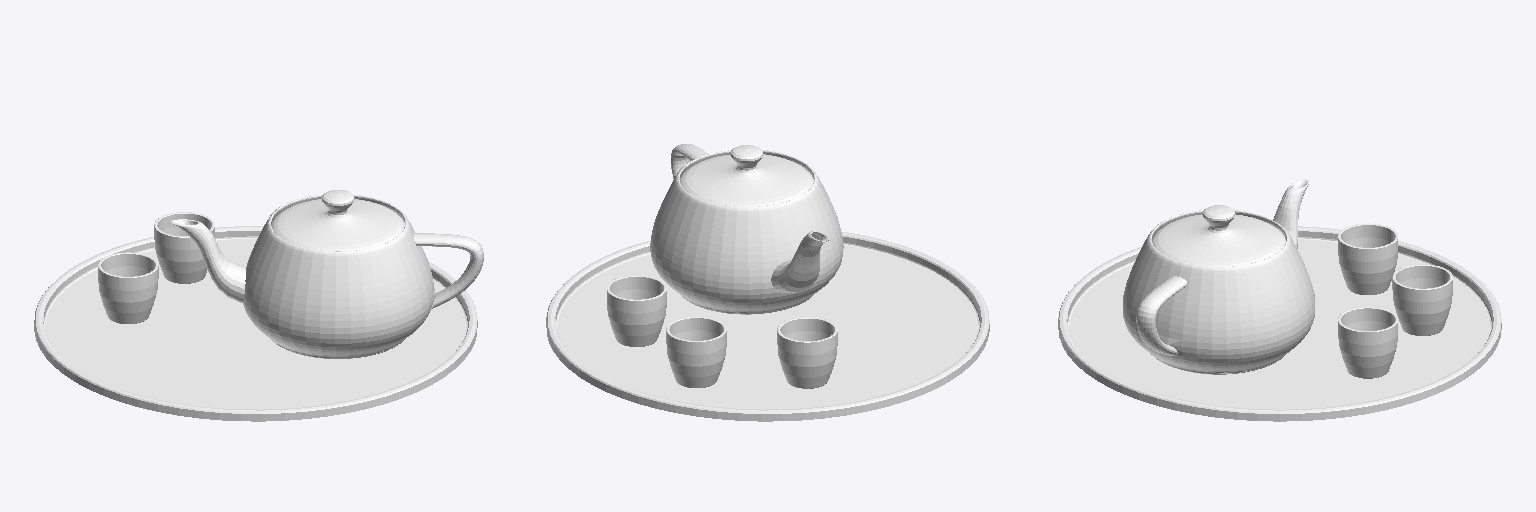
3 renders of one model, left to right at view 1: azimuth 30°, elevation 25°; view 2: azimuth 150°, elevation 25°; view 3: azimuth 270°, elevation 25°, orthographic.
Visible parts, largest first — view 1: Cylinder.001; view 2: Cylinder.001; view 3: Cylinder.001.
Part boxes in pixels (x1,y1,x2,y2): Cylinder.001: (34, 190, 483, 421); Cylinder.001: (546, 144, 989, 421); Cylinder.001: (1058, 179, 1501, 421).
Bounding box in the file's own units: 9.04 × 3.24 × 9.04.
1 materials, 1 textured.